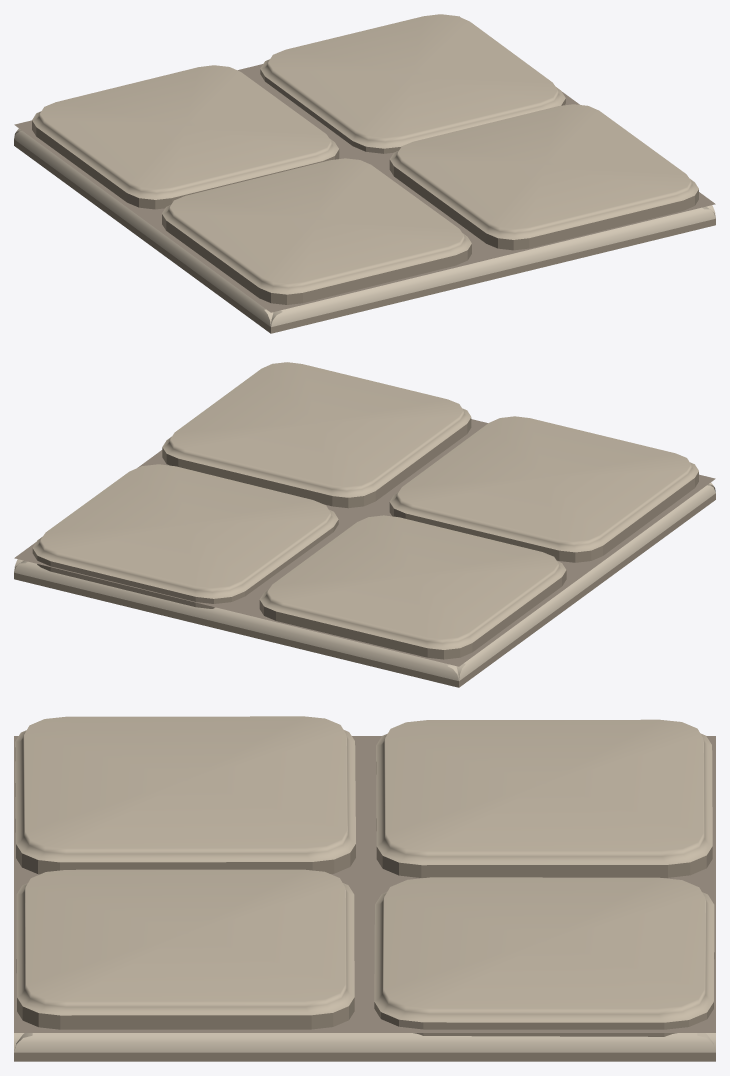
The model's file is tile_layer_surface_master_pavers.glb.
The picture shows the model from 3 angles, top to bottom: view 1: azimuth 30°, elevation 25°; view 2: azimuth 150°, elevation 25°; view 3: azimuth 270°, elevation 25°; orthographic projection. The views are drawn at different scales.
Parts seen in each view (by area): view 1: tile_layer_surface_master_pavers_cap; view 2: tile_layer_surface_master_pavers_cap; view 3: tile_layer_surface_master_pavers_cap.
Part boxes in pixels (left/top/right/bottom): tile_layer_surface_master_pavers_cap: left=14, top=14, right=715, bottom=333; tile_layer_surface_master_pavers_cap: left=14, top=362, right=715, bottom=687; tile_layer_surface_master_pavers_cap: left=14, top=716, right=715, bottom=1061.
Bounding box in the file's own units: 1.35 × 0.1215 × 1.35.
